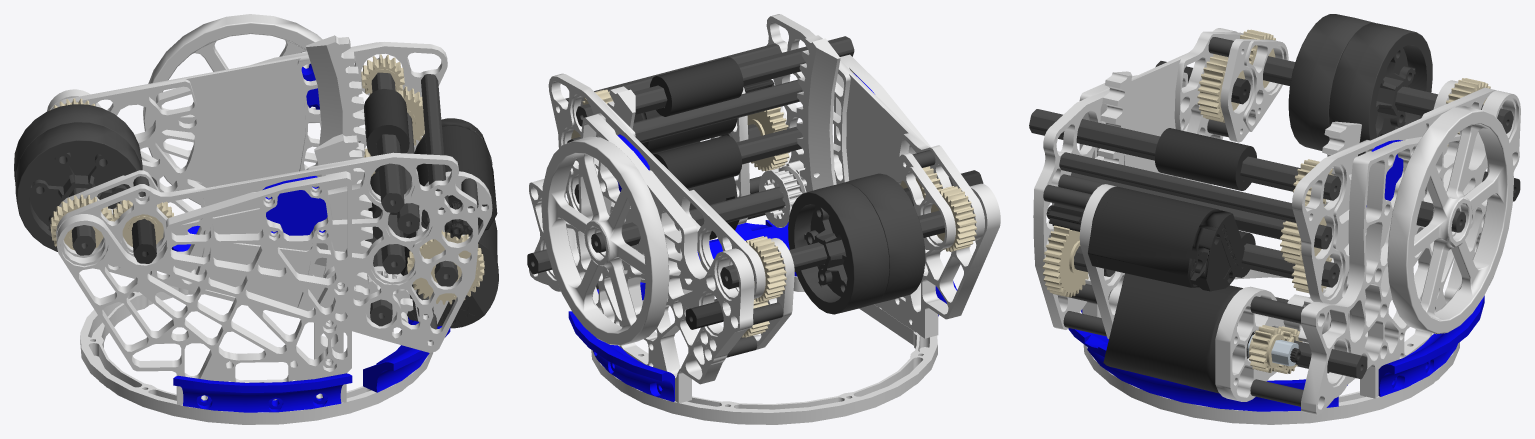
The model's file is 1706-turret-b.glb.
3 renders of one model, left to right at view 1: azimuth 30°, elevation 25°; view 2: azimuth 150°, elevation 25°; view 3: azimuth 270°, elevation 25°, orthographic. The views are drawn at different scales.
Parts seen in each view (by area): view 1: RB-50-103, 3" Solid Urethane Wheel (45A, 1" Wide, 1/2" Hex Bore), 1/2" Rounded Hex (2.094" L, 13.75mm OD), RB-50-113, RB-20-A-1.195-XX, Top Plate, 18t Aluminum Spur Gear (20 DP, 1/2" Hex Bore) (×2); view 2: RB-50-103, RB-20-A-1.195-XX, 3" Solid Urethane Wheel (45A, 1" Wide, 1/2" Hex Bore), 1/2" Rounded Hex (2.094" L, 13.75mm OD), Top Plate, 18t Aluminum Spur Gear (20 DP, 1/2" Hex Bore) (×2), RB-50-113; view 3: RB-50-103, 1/2" Rounded Hex (2.094" L, 13.75mm OD), RB-20-A-1.195-XX, 3" Solid Urethane Wheel (45A, 1" Wide, 1/2" Hex Bore), 18t Aluminum Spur Gear (20 DP, 1/2" Hex Bore) (×2), RB-50-113, Top Plate, Kraken Spline to 1/2" Hex Adapter (TTB-0130).
Boxes of the visible parts, x1,y1,x2,y2 form: RB-50-103: (47, 14, 492, 404); 3" Solid Urethane Wheel (45A, 1" Wide, 1/2" Hex Bore): (14, 104, 142, 251); 1/2" Rounded Hex (2.094" L, 13.75mm OD): (131, 89, 498, 328); RB-50-113: (171, 63, 450, 412); RB-20-A-1.195-XX: (69, 58, 478, 341); Top Plate: (80, 274, 433, 424); 18t Aluminum Spur Gear (20 DP, 1/2" Hex Bore) (×2): (49, 54, 484, 304); RB-50-103: (529, 14, 1000, 403); RB-20-A-1.195-XX: (527, 36, 944, 357); 3" Solid Urethane Wheel (45A, 1" Wide, 1/2" Hex Bore): (788, 173, 925, 314); 1/2" Rounded Hex (2.094" L, 13.75mm OD): (634, 57, 983, 329); Top Plate: (591, 276, 937, 424); 18t Aluminum Spur Gear (20 DP, 1/2" Hex Bore) (×2): (568, 89, 976, 337); RB-50-113: (568, 73, 957, 401); RB-50-103: (1033, 28, 1520, 415); 1/2" Rounded Hex (2.094" L, 13.75mm OD): (1046, 61, 1520, 393); RB-20-A-1.195-XX: (1029, 37, 1513, 406); 3" Solid Urethane Wheel (45A, 1" Wide, 1/2" Hex Bore): (1288, 14, 1432, 156); 18t Aluminum Spur Gear (20 DP, 1/2" Hex Bore) (×2): (1042, 29, 1490, 373); RB-50-113: (1068, 140, 1484, 411); Top Plate: (1083, 269, 1459, 424); Kraken Spline to 1/2" Hex Adapter (TTB-0130): (1247, 335, 1298, 366).
Size of the model in its own units: 0.2997 by 0.1722 by 0.2727.
